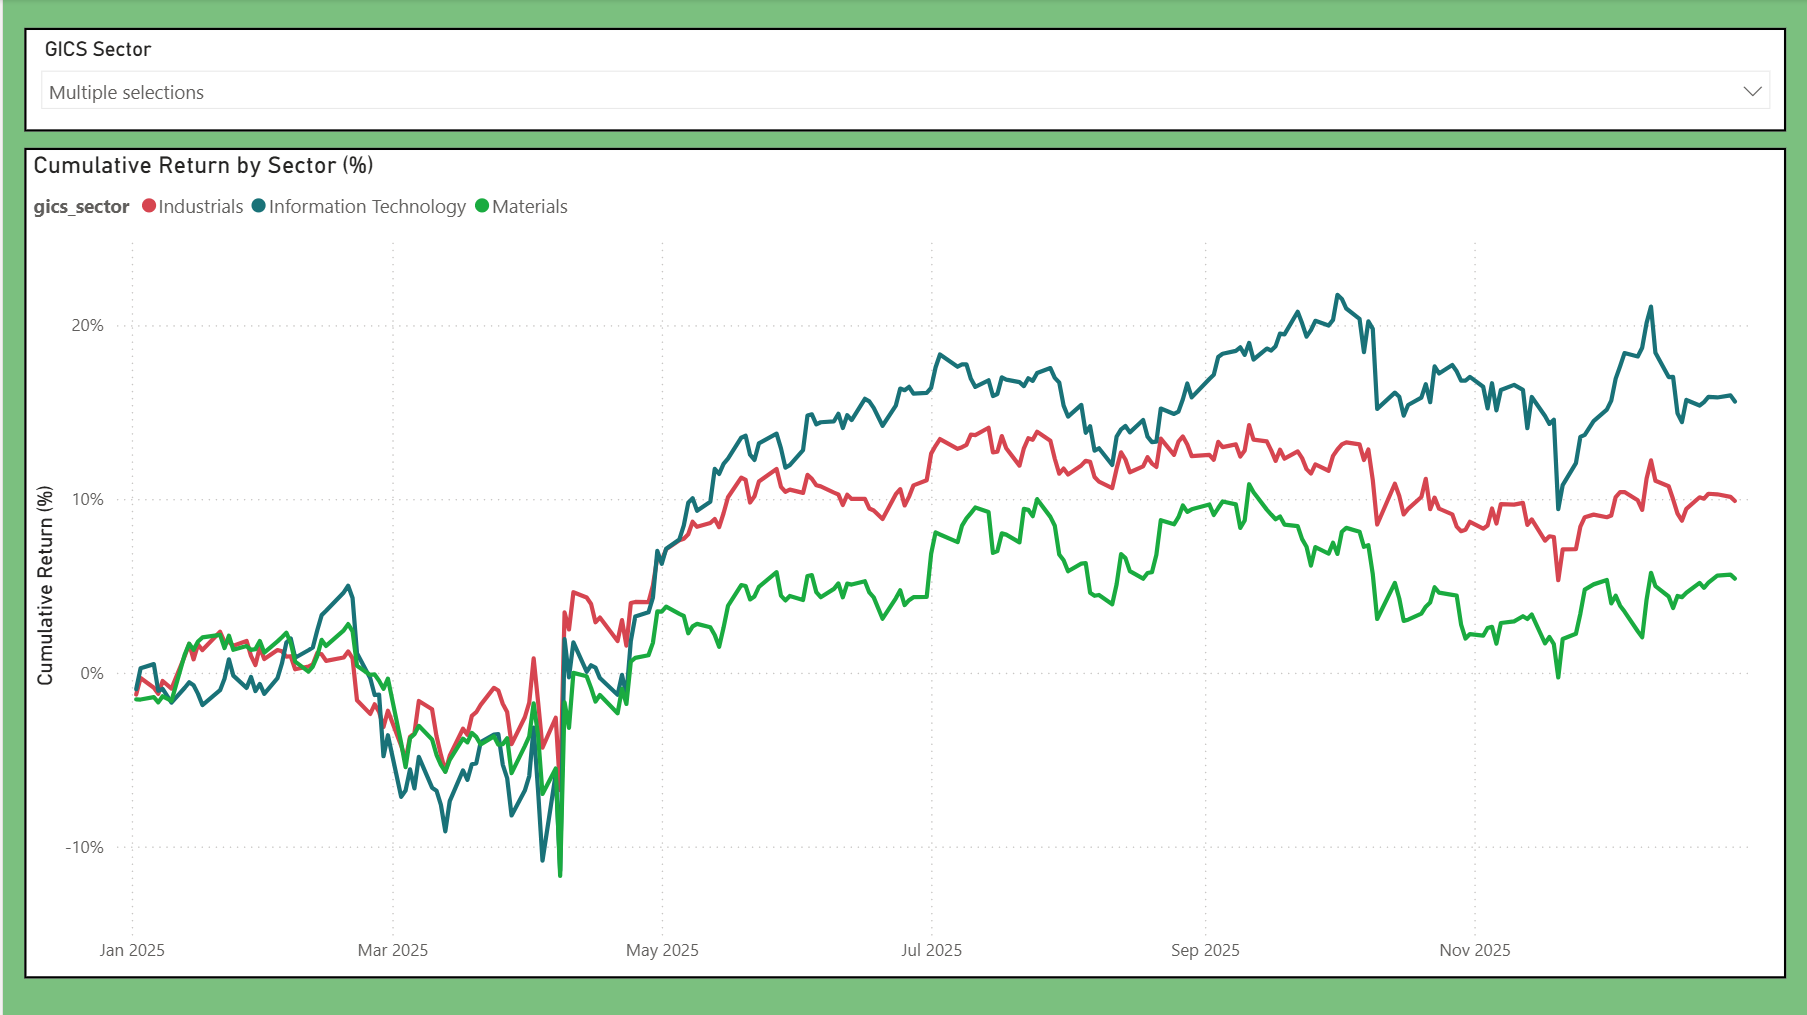

The dashboard page shown, as its layout file describes it:
{"tool":"powerbi","page":{"name":"Sector Performance","canvas":[1280,720],"ordinal":0},"visuals":[{"type":"lineChart","title":"Cumulative Return by Sector (%)","fields":{"Category":["sector_performance.date"],"Series":["sector_performance.gics_sector"],"Y":["Sum(sector_performance.cumulative_return_pct)"]},"box":[15.1,105.4,1249.2,589.1],"z":0},{"type":"slicer","title":"G","fields":{"Values":["sector_performance.gics_sector"]},"box":[15.1,20.4,1249.2,73.5],"z":1000}]}

Visuals, with their boxes in screenshot pixels (x1, y1, x2, y2), scaled from the page's 1280x720 canvas onto the 1807x1015 screenshot:
"Cumulative Return by Sector (%)" lineChart: left=21, top=149, right=1785, bottom=979
"G" slicer: left=21, top=29, right=1785, bottom=132
